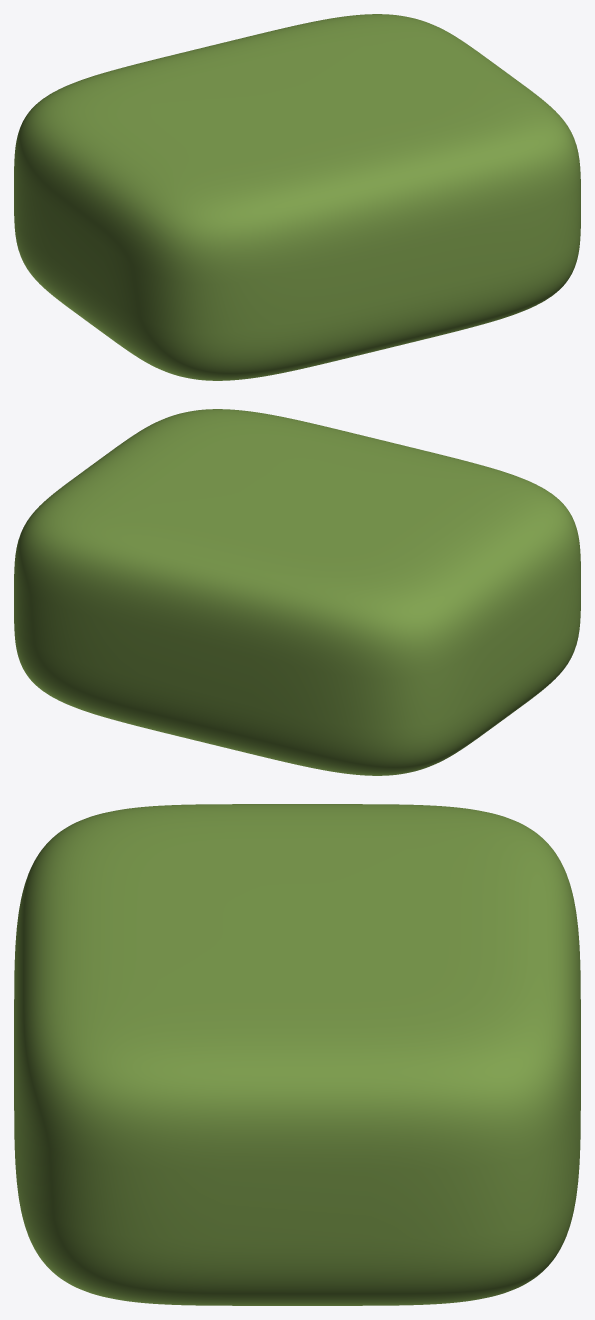
File: plant-shells.glb
3 renders of one model, top to bottom at view 1: azimuth 30°, elevation 25°; view 2: azimuth 150°, elevation 25°; view 3: azimuth 270°, elevation 25°, orthographic. The views are drawn at different scales.
Parts seen in each view (by area): view 1: whole_wall; view 2: whole_wall; view 3: whole_wall.
Part boxes in pixels (box(x1,y1,x2,y2)): whole_wall: box(14, 14, 580, 380); whole_wall: box(14, 409, 580, 775); whole_wall: box(14, 804, 580, 1305).
Bounding box in the file's own units: 6.04 × 2.49 × 4.83.
